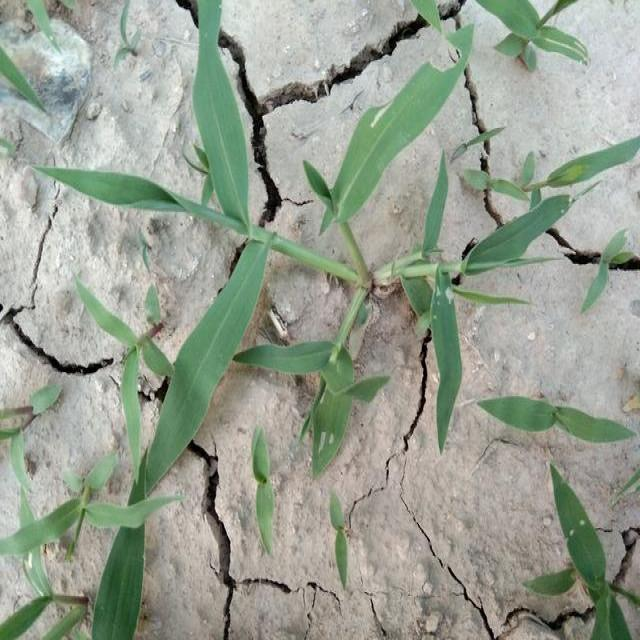weed: (46, 174, 498, 261), (415, 161, 572, 395), (0, 512, 180, 640), (70, 264, 175, 480), (183, 16, 260, 228), (257, 322, 375, 447), (549, 465, 626, 633), (484, 0, 602, 80), (477, 400, 626, 452)
